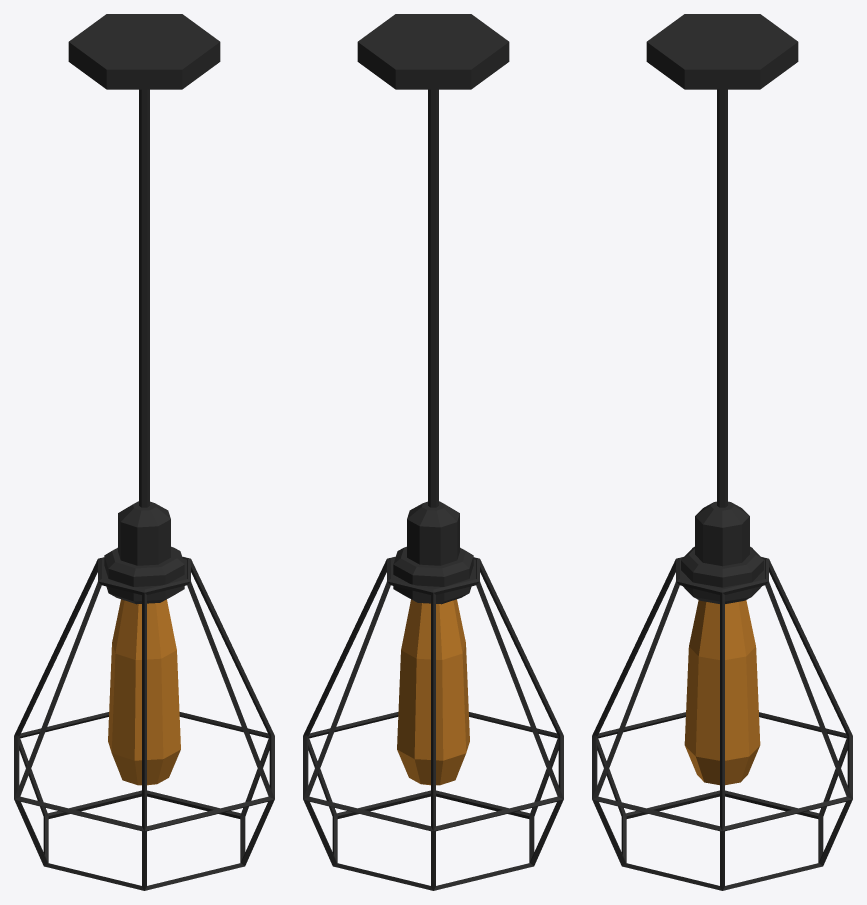
Rendered from SM_Props_Interior_Shop_Light_CeilingLight_07.fbx.
3 renders of one model, left to right at view 1: azimuth 30°, elevation 25°; view 2: azimuth 150°, elevation 25°; view 3: azimuth 270°, elevation 25°, orthographic.
Parts seen in each view (by area): view 1: SM_Props_Interior_Shop_Light_CeilingLight_07; view 2: SM_Props_Interior_Shop_Light_CeilingLight_07; view 3: SM_Props_Interior_Shop_Light_CeilingLight_07.
Boxes of the visible parts, <box> form: SM_Props_Interior_Shop_Light_CeilingLight_07: <box>14,14,274,890</box>; SM_Props_Interior_Shop_Light_CeilingLight_07: <box>303,14,563,890</box>; SM_Props_Interior_Shop_Light_CeilingLight_07: <box>592,14,852,890</box>.
Size of the model in its own units: 27.33 by 80.26 by 23.67.
